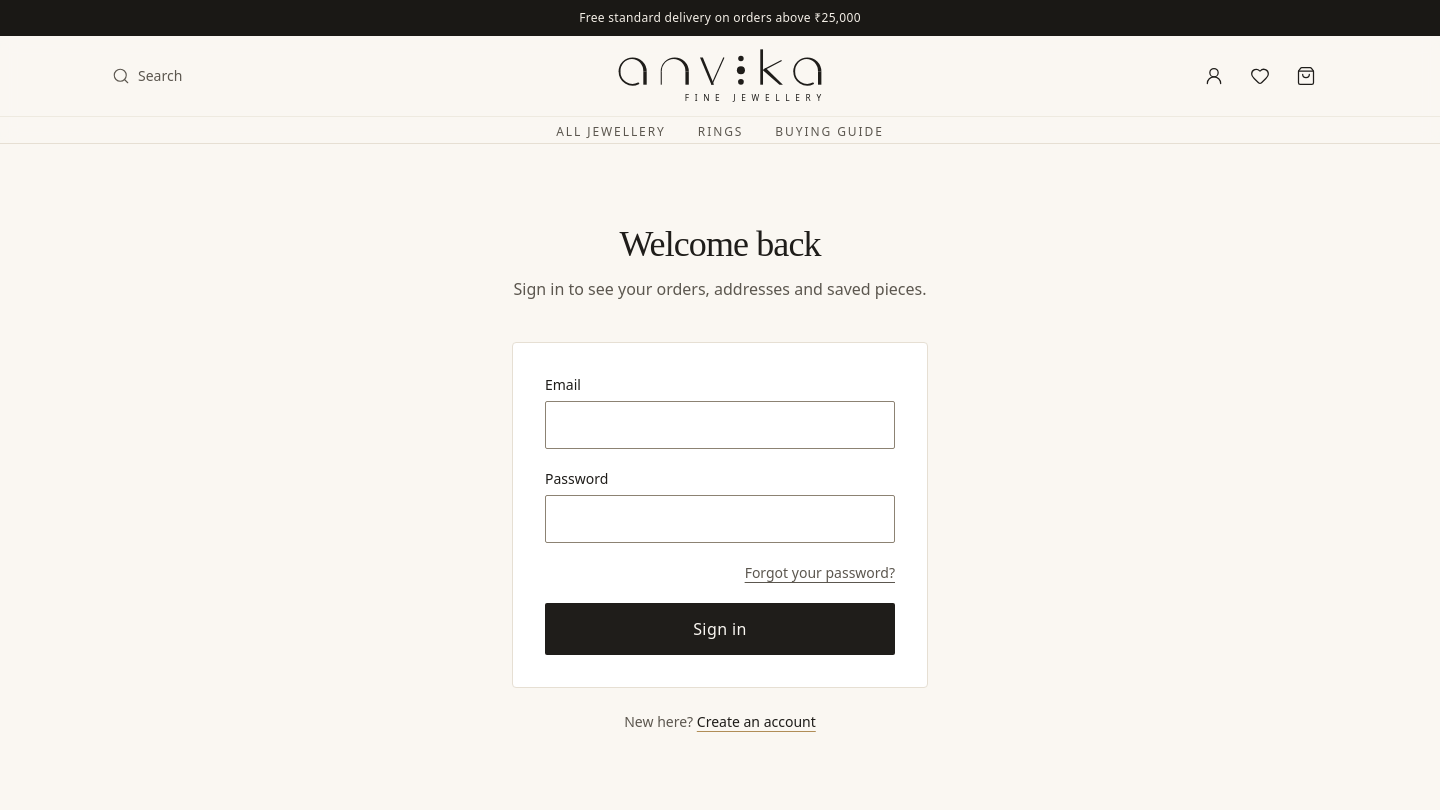
it: sign in › shows a clear message for wrong credentials
This screenshot has width=1440, height=810.
Type "asha@example.com" into the field labelled "Email" at [720, 425], box [545, 401, 895, 449]
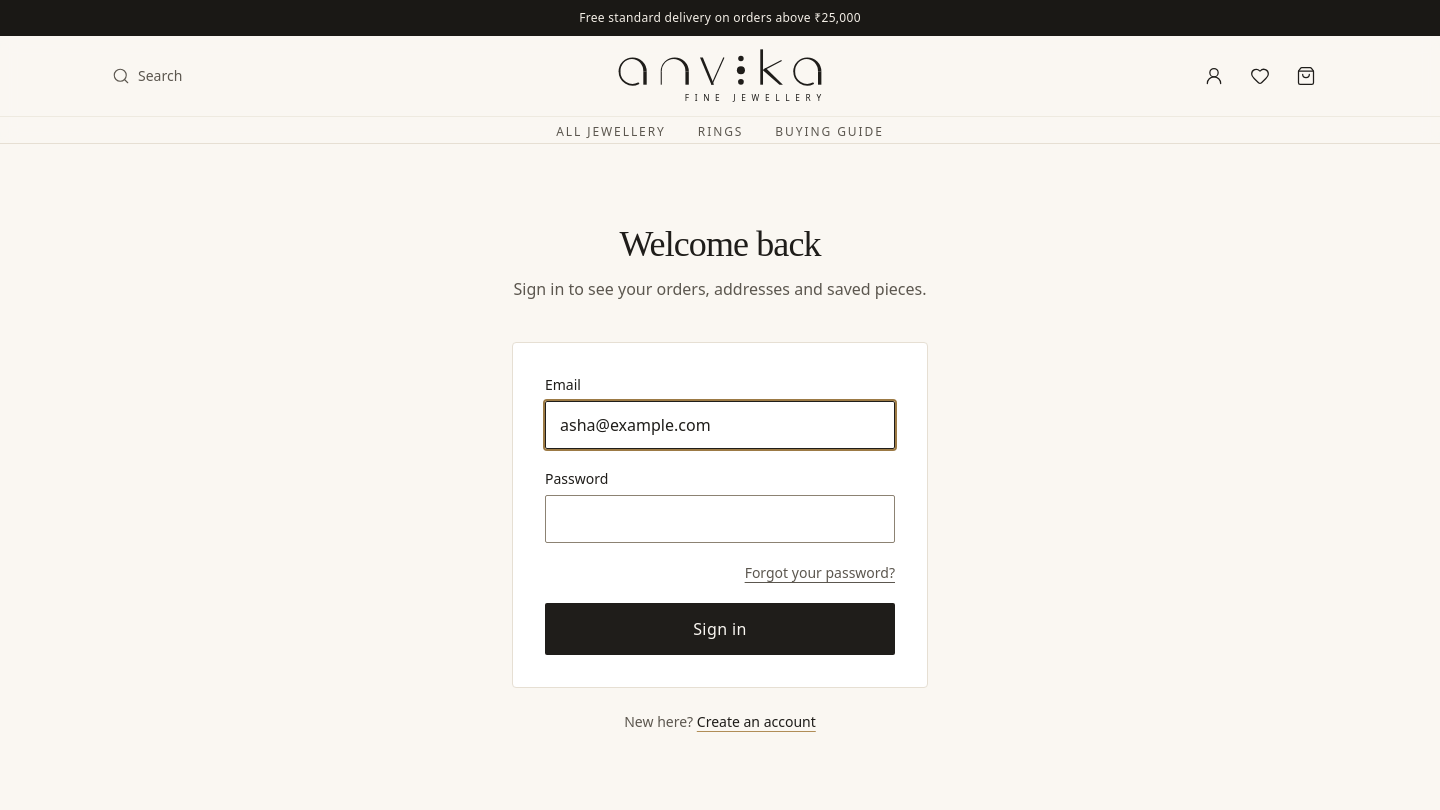
Type "wrong password" into the password field labelled "Password" at [720, 519], box [545, 495, 895, 543]
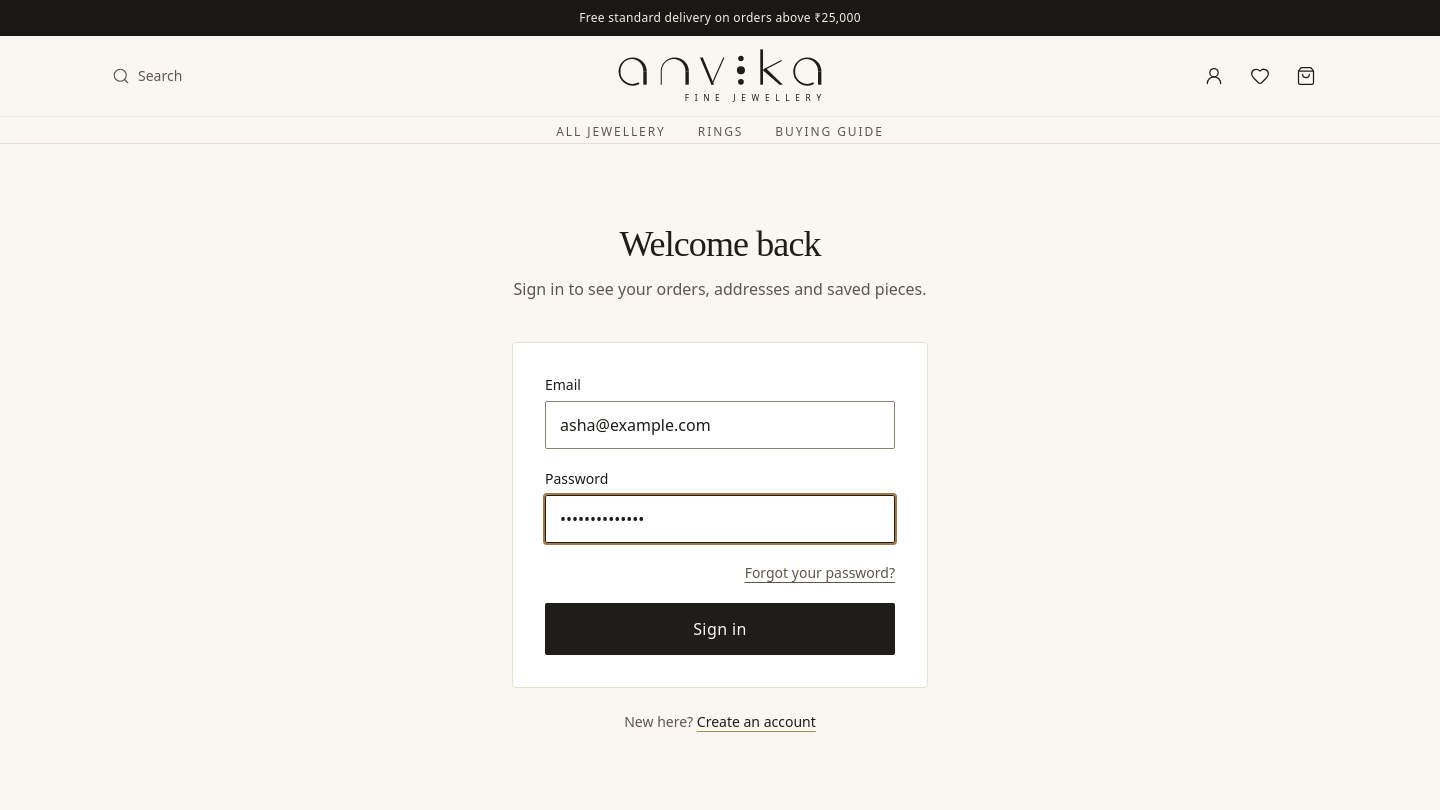
Click the button "Sign in" at [720, 629], box [545, 603, 895, 655]
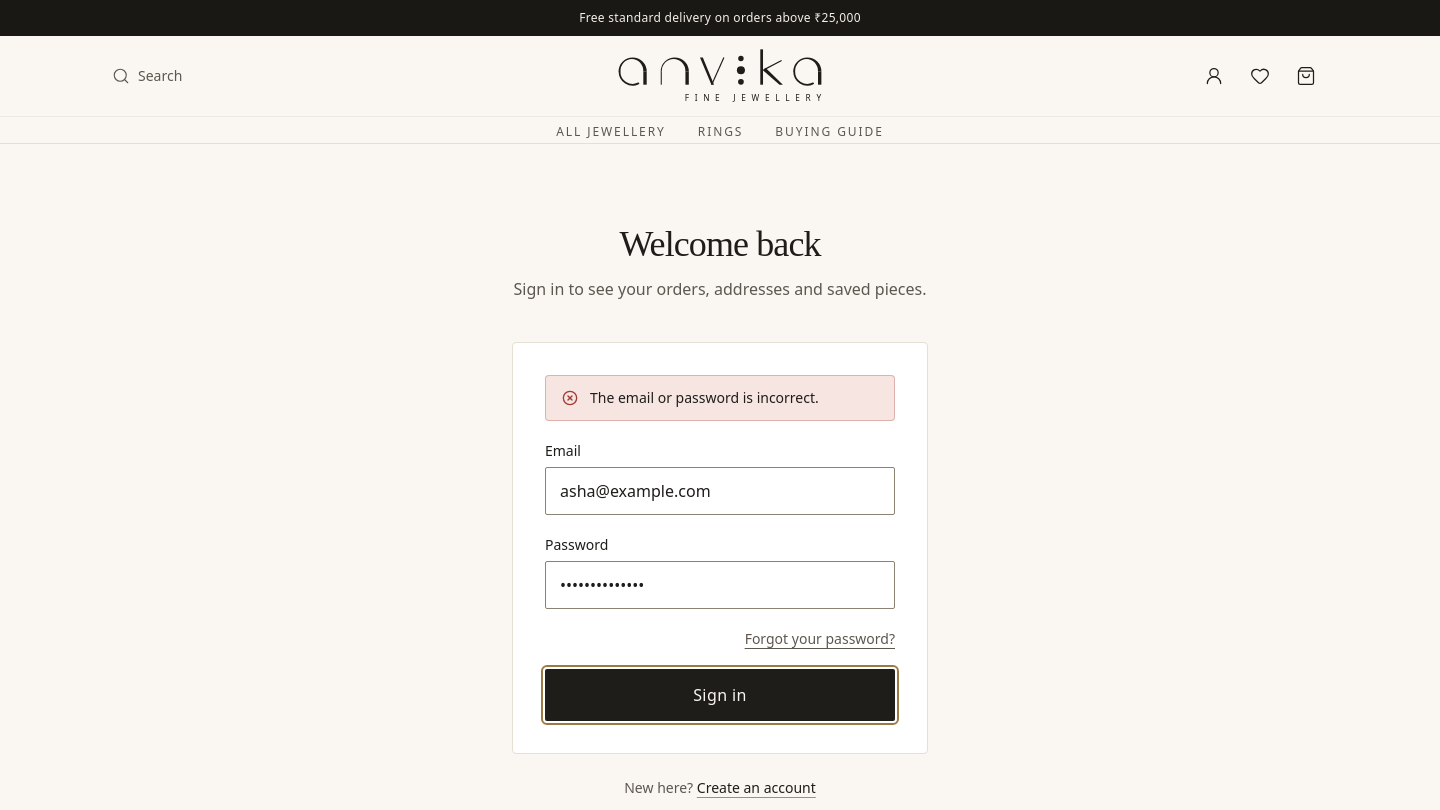
Check: the text "The email or password is incorrect." is shown, box [590, 388, 819, 408]
